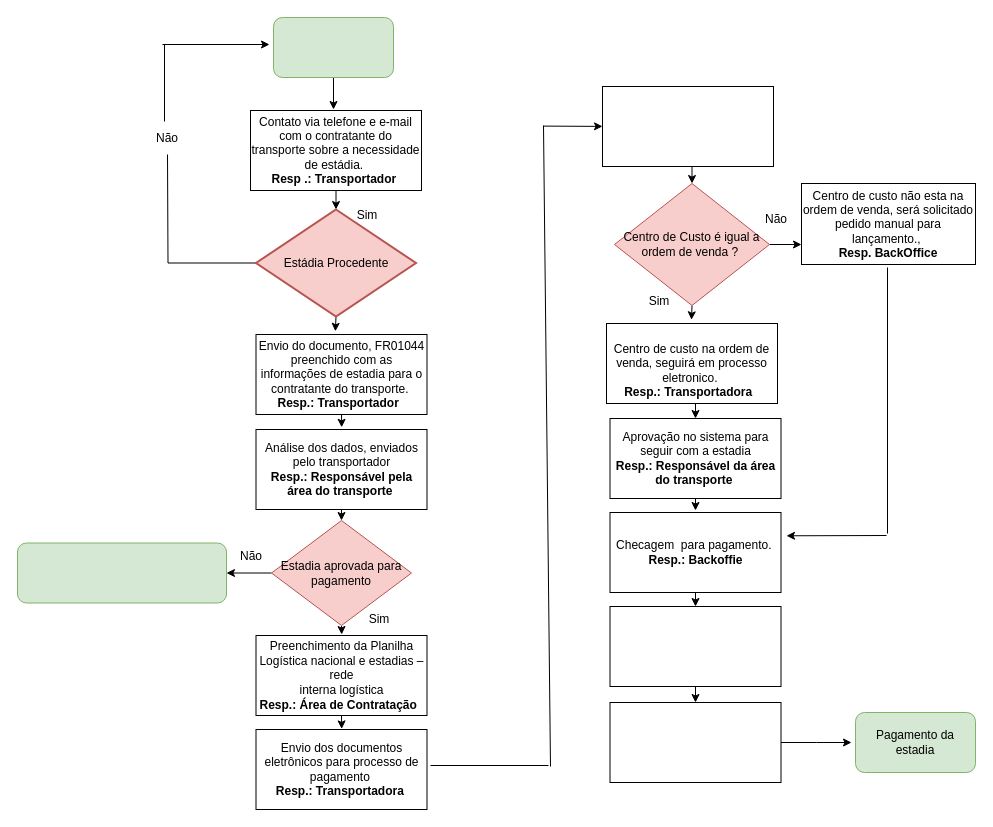
This 993x827 diagram has some shape labels left out. Each missing label, with the centre of its shape:
"Abertura RAI para informar centro de custo. Resp.; Backoffice" belongs at point (688, 126).
"Carga e Descarga" belongs at point (333, 47).
"Envio do e-mail para o setor de pagamentos. Resp.: Backoffice" belongs at point (695, 742).
"Lançamento do documento no sistema. Resp.: Recebimento ou Backoffice" belongs at point (695, 646).
"O transportador deverá realizar o pagamento da estadia por conta própria." belongs at point (121, 572).
